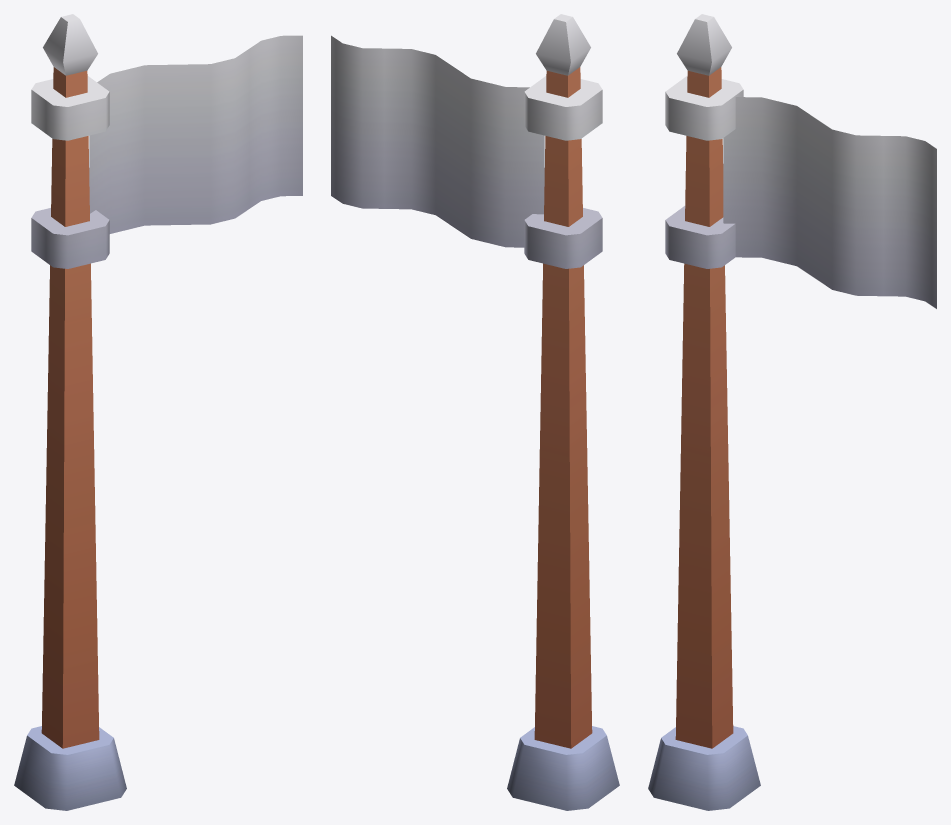
The model's file is drapeau.glb.
3 views of the same model, side by side, from view 1: azimuth 30°, elevation 25°; view 2: azimuth 150°, elevation 25°; view 3: azimuth 330°, elevation 25° (orthographic).
Visible parts, largest first — view 1: flag-high; view 2: flag-high; view 3: flag-high.
Boxes of the visible parts, bbox=[...] form: flag-high: bbox=[14, 14, 302, 810]; flag-high: bbox=[331, 14, 619, 810]; flag-high: bbox=[648, 14, 936, 810].
Size of the model in its own units: 2.6 by 7 by 0.7759.
1 material, 1 textured.
